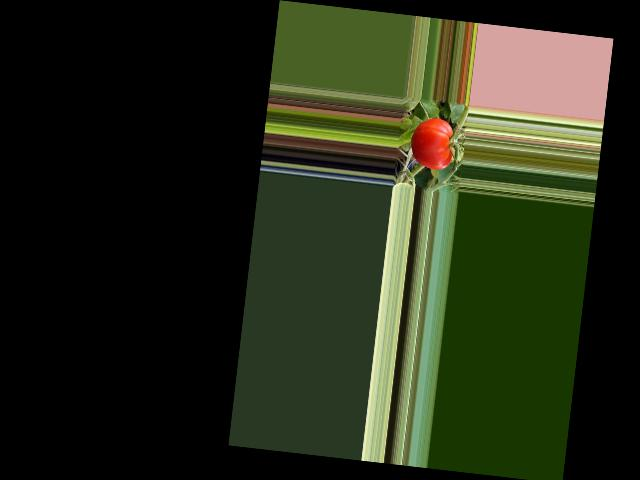tomato: (408, 116, 455, 171)
